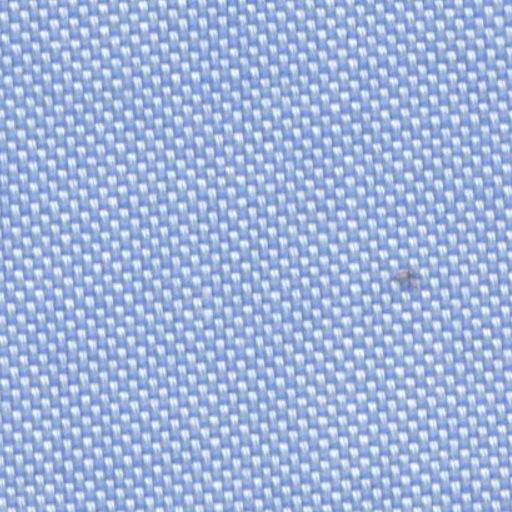WuZi: (374, 254, 440, 299)
